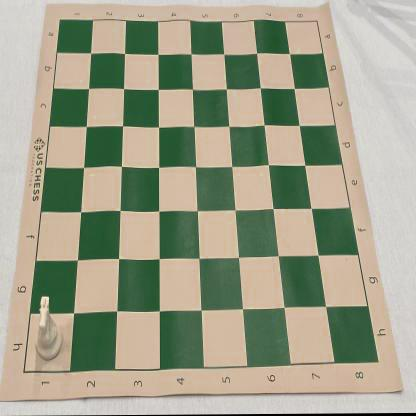white-knight: (35, 296, 64, 362)
